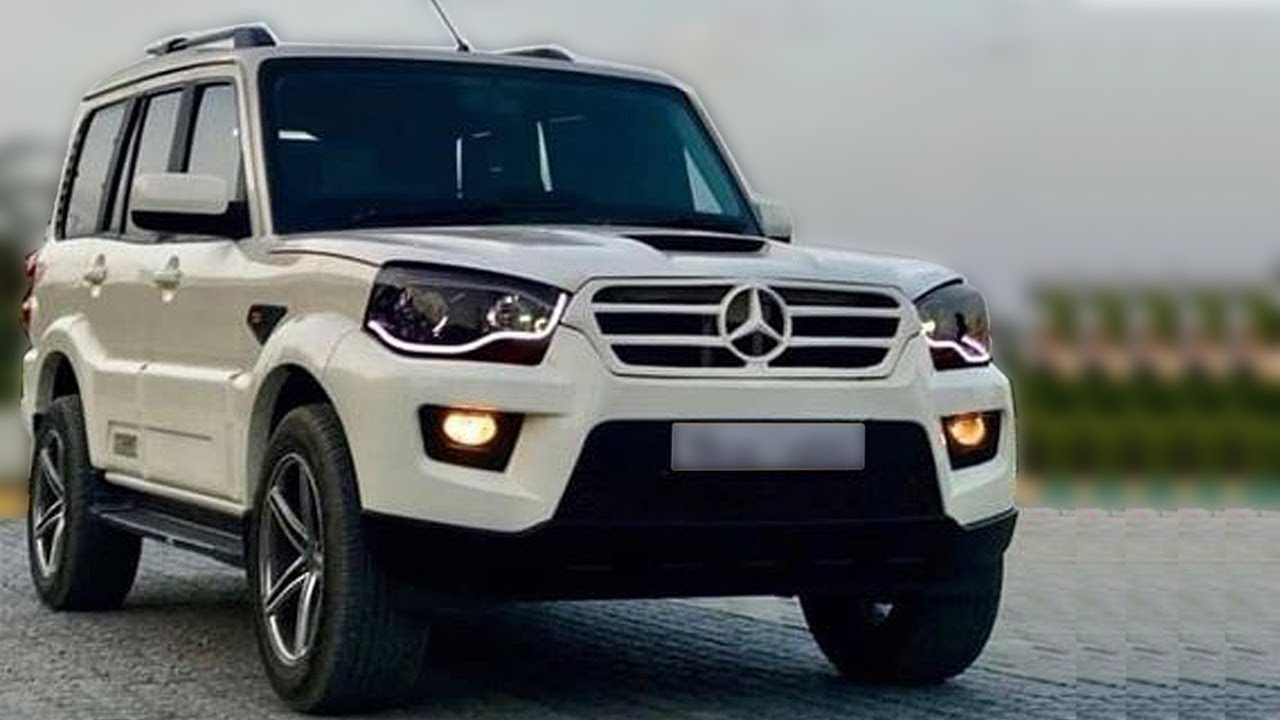car: (16, 17, 1023, 719)
